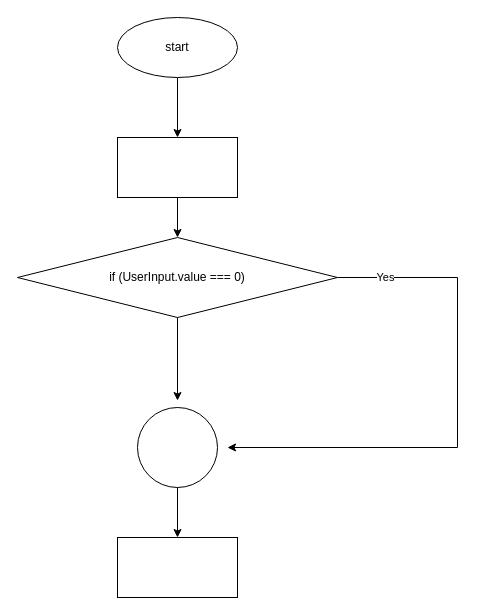
This 483x615 diagram has some shape labels left out. The shapes that lost their labels are listed below. From the top down, each one's centre as x and y in pixels, then its label:
point (177, 167): Collect User Input From cmd line UserInput.value;
point (177, 567): Print higest number, average, and smallest number
